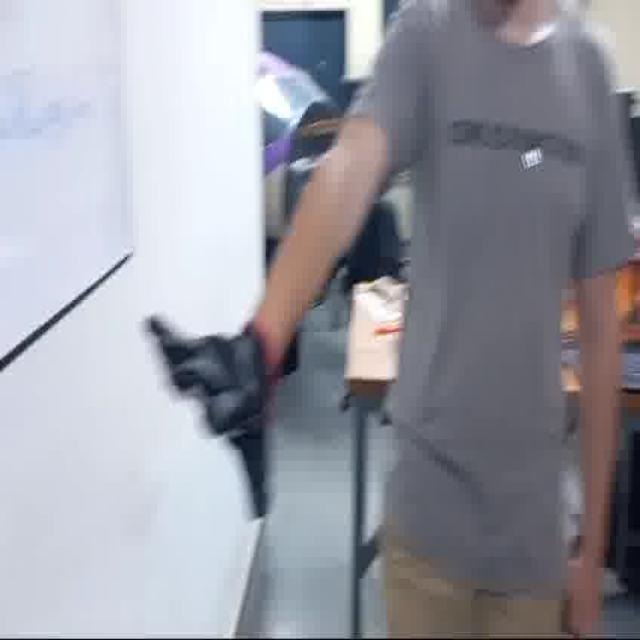Gloves: (146, 314, 276, 538)
